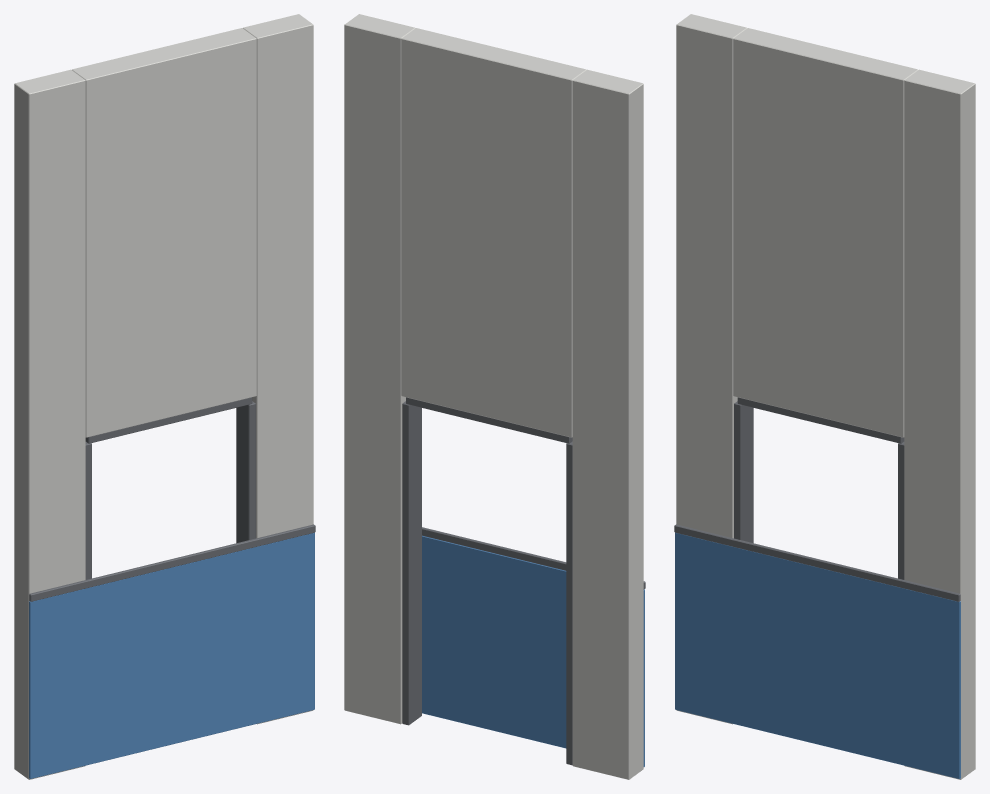
File: community-sports-hall-and-changing-rooms-hall-wall-mod-136e10a2__35086.glb
3 renders of one model, left to right at view 1: azimuth 30°, elevation 25°; view 2: azimuth 150°, elevation 25°; view 3: azimuth 330°, elevation 25°, orthographic.
Parts seen in each view (by area): view 1: hall-wall-module-doorway; view 2: hall-wall-module-doorway; view 3: hall-wall-module-doorway.
Part boxes in pixels (x1=…): hall-wall-module-doorway: x1=14, y1=14, x2=315, y2=779; hall-wall-module-doorway: x1=344, y1=14, x2=645, y2=779; hall-wall-module-doorway: x1=674, y1=14, x2=975, y2=779.
Bounding box in the file's own units: 2 × 4.6 × 0.2021.
